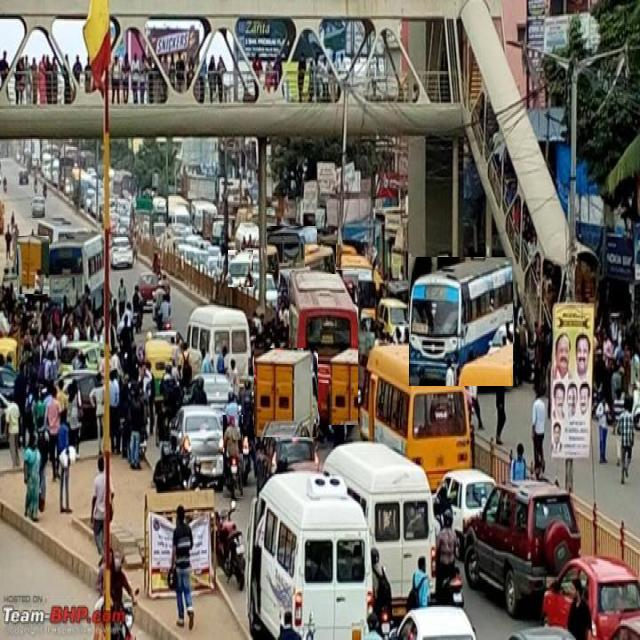autorickshaw: (145, 340, 172, 394)
bus: (360, 344, 471, 491), (410, 258, 513, 386), (290, 271, 358, 425), (48, 236, 104, 308), (341, 244, 376, 306), (305, 244, 336, 274)
car: (248, 471, 370, 639), (325, 442, 436, 617), (465, 482, 581, 614), (541, 556, 640, 639), (186, 304, 250, 381), (440, 469, 495, 554), (171, 404, 225, 481), (378, 298, 410, 337), (229, 251, 253, 287), (110, 236, 134, 269), (32, 198, 45, 217)
motorcycle: (216, 500, 245, 590), (224, 415, 243, 498)
truck: (255, 349, 318, 437), (268, 227, 317, 270), (18, 236, 49, 294)
